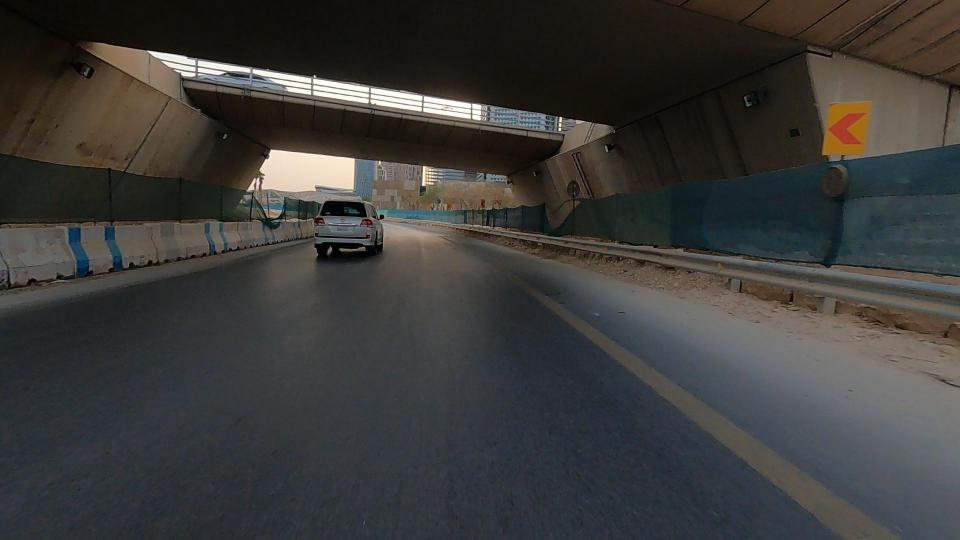CONSTRUCTION_ROAD: (654, 122, 932, 340), (0, 120, 249, 322), (126, 158, 352, 274), (472, 174, 621, 269), (396, 186, 537, 258), (359, 189, 470, 237)
